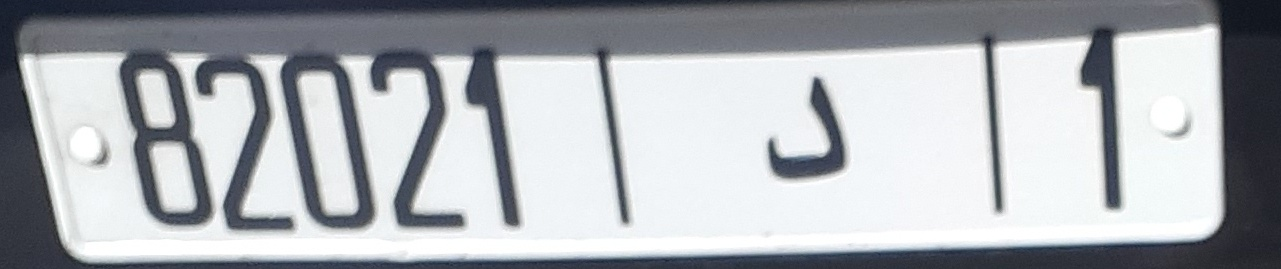0: (274, 41, 367, 237)
1: (1056, 13, 1156, 217), (459, 30, 527, 256)
2: (195, 28, 276, 241), (374, 43, 453, 239)
8: (94, 43, 219, 239)
d: (707, 56, 897, 202)
